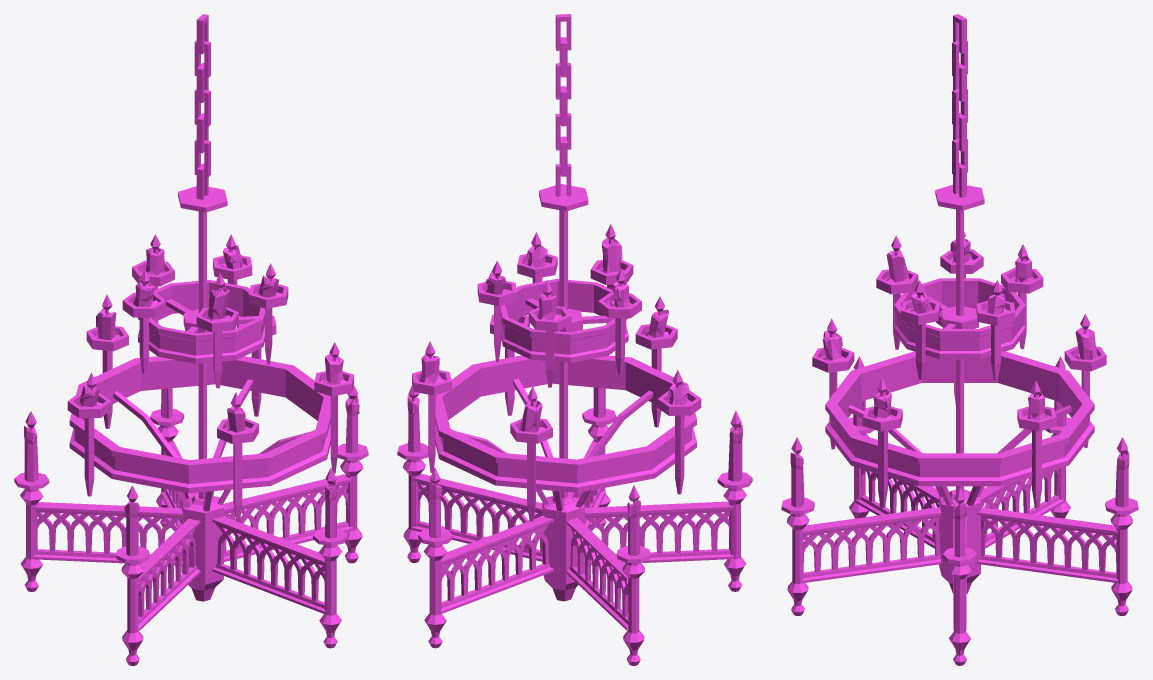
File: SM_Chandelier_Candle_D_Lit_Fantasy.fbx
3 renders of one model, left to right at view 1: azimuth 30°, elevation 25°; view 2: azimuth 150°, elevation 25°; view 3: azimuth 270°, elevation 25°, orthographic.
Visible parts, largest first — view 1: SM_Chandelier_Candle_D_Lit_Fantasy; view 2: SM_Chandelier_Candle_D_Lit_Fantasy; view 3: SM_Chandelier_Candle_D_Lit_Fantasy.
Part boxes in pixels (left/top/right/bottom): SM_Chandelier_Candle_D_Lit_Fantasy: left=14, top=14, right=368, bottom=665; SM_Chandelier_Candle_D_Lit_Fantasy: left=397, top=14, right=752, bottom=665; SM_Chandelier_Candle_D_Lit_Fantasy: left=781, top=14, right=1138, bottom=665.
Size of the model in its own units: 1.44 by 2.67 by 1.5.
